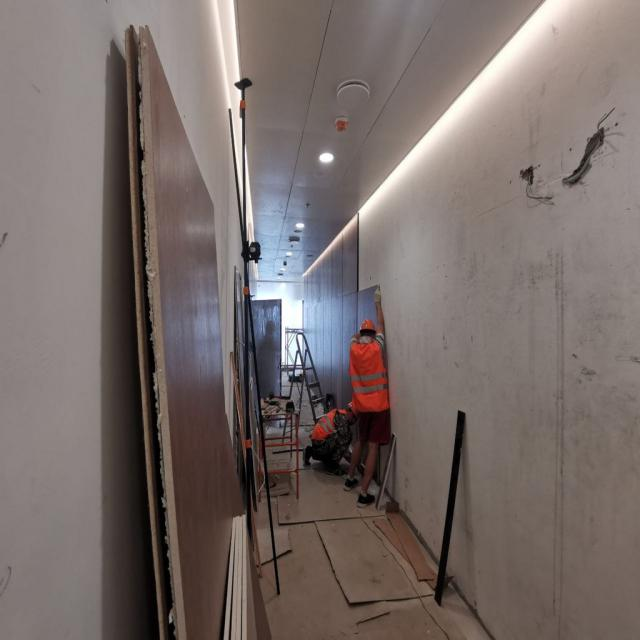Helmet: (360, 319, 378, 340), (346, 402, 360, 425)
